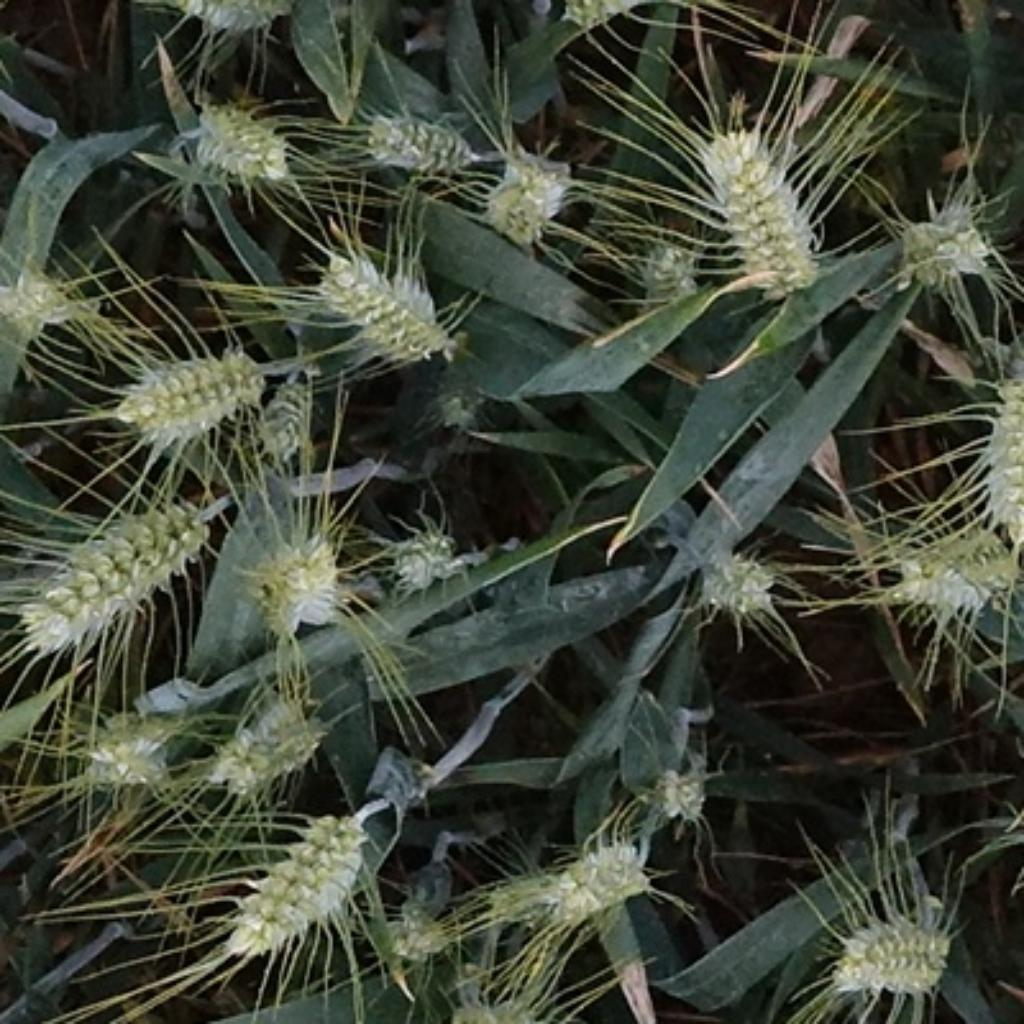0-0: (20, 486, 217, 655), (215, 793, 376, 957), (696, 111, 826, 295), (304, 230, 455, 360), (491, 819, 655, 929), (110, 343, 271, 453), (872, 509, 1024, 616), (234, 524, 349, 657), (204, 675, 332, 793), (819, 893, 960, 998), (64, 688, 192, 798), (883, 181, 1000, 289), (179, 84, 294, 184), (474, 150, 577, 255), (346, 104, 474, 184), (683, 535, 787, 630), (970, 358, 1024, 537), (2, 243, 89, 348), (416, 358, 505, 448), (378, 516, 471, 602), (373, 883, 457, 978), (637, 747, 720, 836), (360, 736, 436, 826), (619, 225, 698, 304), (440, 974, 563, 1024), (259, 372, 325, 461), (145, 0, 299, 33), (547, 0, 650, 33)
